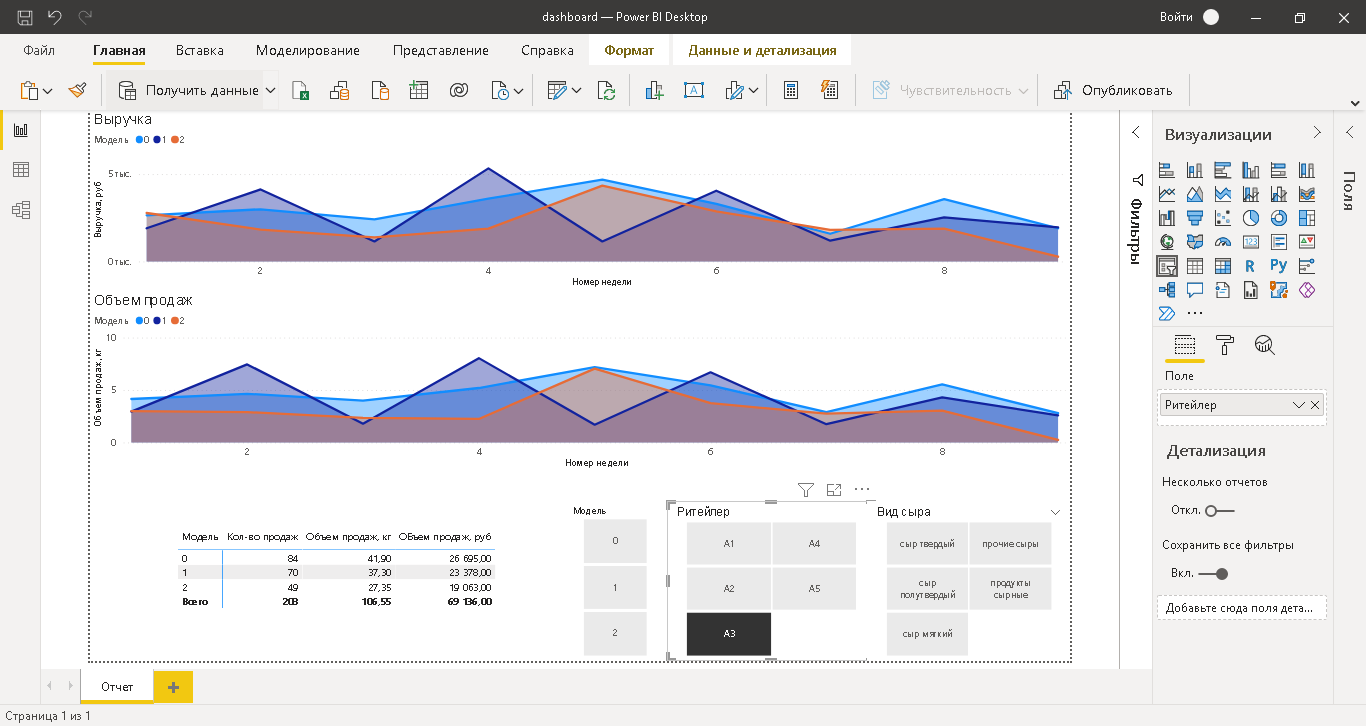

What the dashboard file says about the page in this screenshot:
{"tool":"powerbi","page":{"name":"Отчет","canvas":[1280,720],"ordinal":0},"visuals":[{"type":"areaChart","title":"Выручка","fields":{"Category":["df_group.week_number"],"Series":["df_group.model"],"Y":["Sum(df_group.total_proceeds)"]},"box":[0,0,1280,236.1],"z":0},{"type":"slicer","fields":{"Values":["df_group.retailer"]},"box":[754.1,511.5,271.5,208.5],"z":1000},{"type":"slicer","fields":{"Values":["df_group.kind_cheese"]},"box":[1015.1,511.5,264.9,208.5],"z":2000},{"type":"slicer","fields":{"Values":["df_group.model"]},"box":[619,511.5,132.5,208.5],"z":3000},{"type":"areaChart","title":"Объем продаж","fields":{"Category":["df_group.week_number"],"Series":["df_group.model"],"Y":["Sum(df_group.total_quantity)"]},"box":[0,236.1,1280,236],"z":4000},{"type":"pivotTable","fields":{"Rows":["df_group.model"],"Values":["Sum(df_group.total_amount)","Sum(df_group.total_quantity)","Sum(df_group.total_proceeds)"]},"box":[110.1,542.3,437.7,144.5],"z":5000}]}

Visuals, with their boxes on the page's 1280x720 design canvas (x1, y1, x2, y2). These are canvas units, not pixel positions in the 1366x726 screenshot, which may show the page scaled, cropped or inside an application window:
"Выручка" areaChart: locate(0, 0, 1280, 236)
slicer - df_group.retailer: locate(754, 512, 1026, 720)
slicer - df_group.kind_cheese: locate(1015, 512, 1280, 720)
slicer - df_group.model: locate(619, 512, 752, 720)
"Объем продаж" areaChart: locate(0, 236, 1280, 472)
pivotTable - df_group.model x Sum(df_group.total_amount): locate(110, 542, 548, 687)
